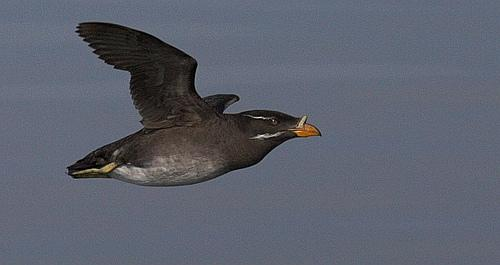008.Rhinoceros_Auklet: (65, 22, 321, 185)
